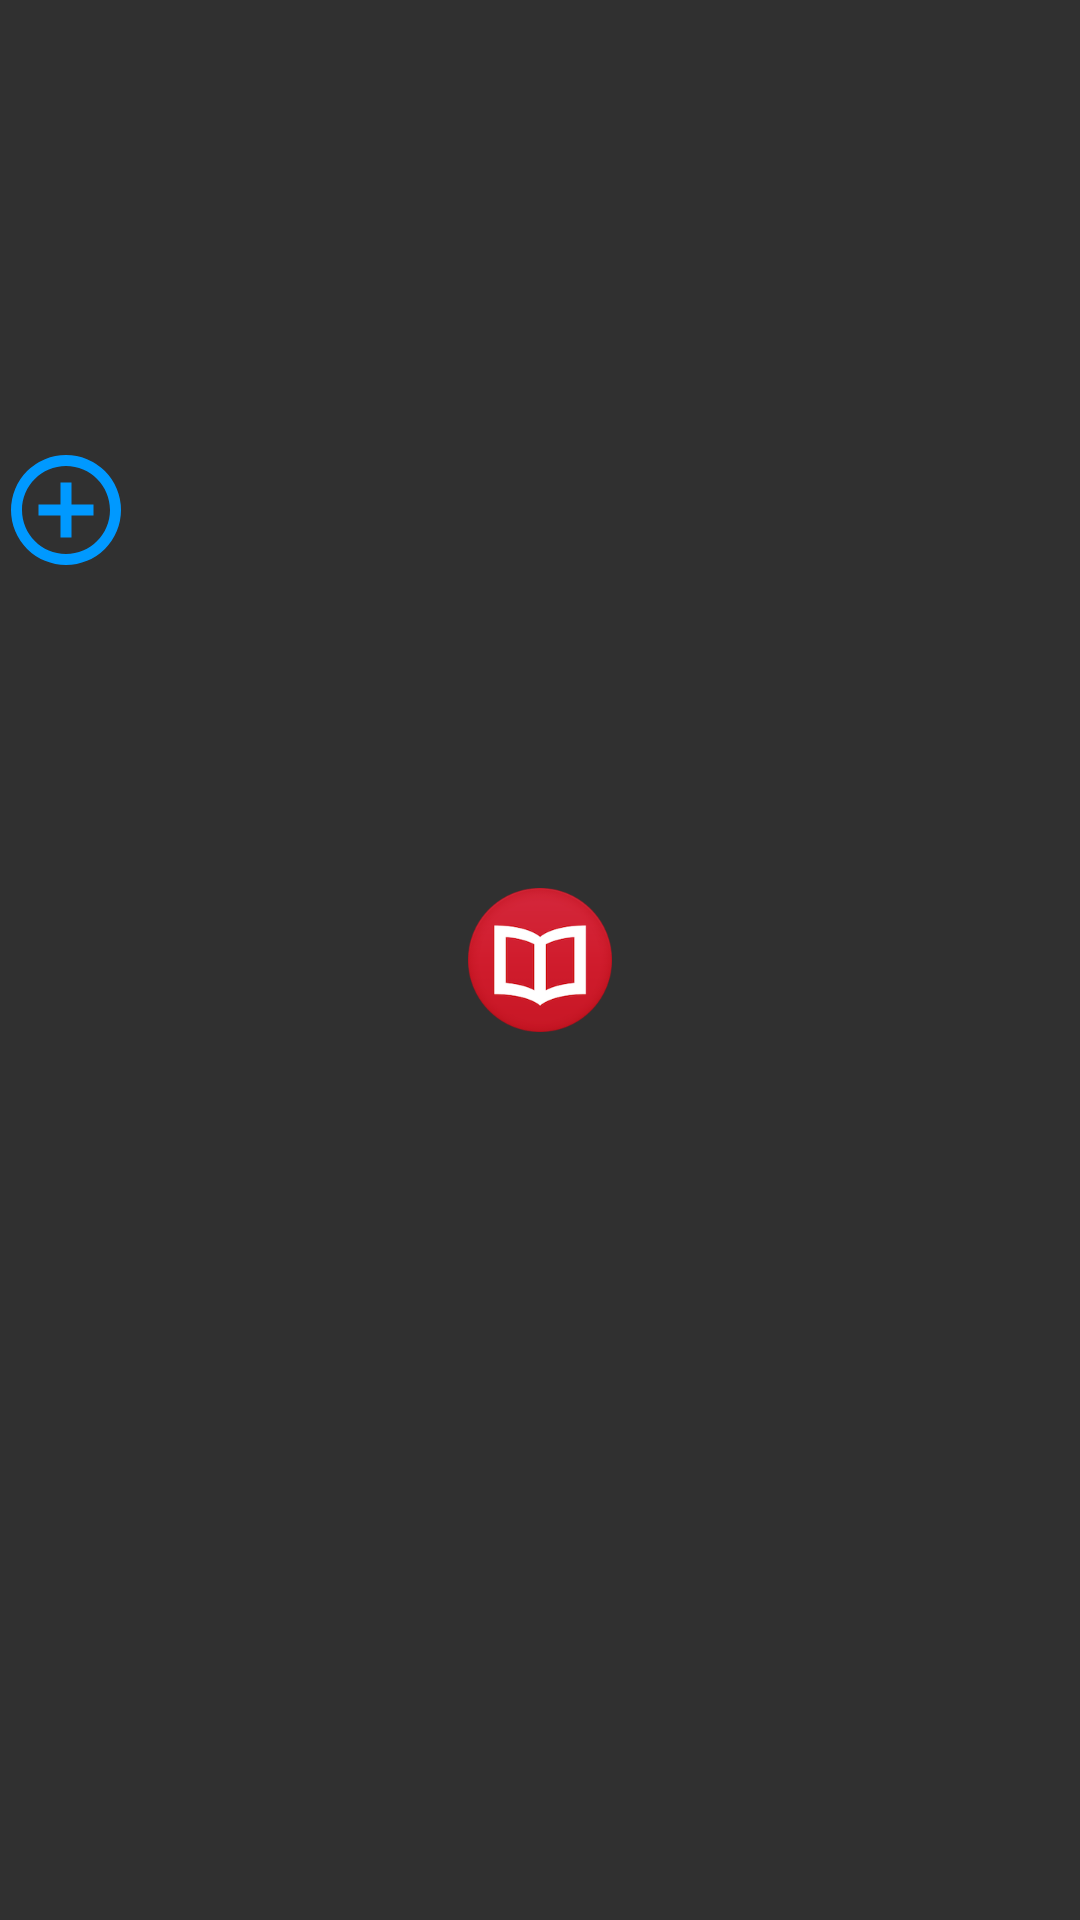

Screen size 1080w x 1920h. Icon name, then its box in pixels as (x1, y1, x2, y2):
add: (11, 455, 121, 565)
